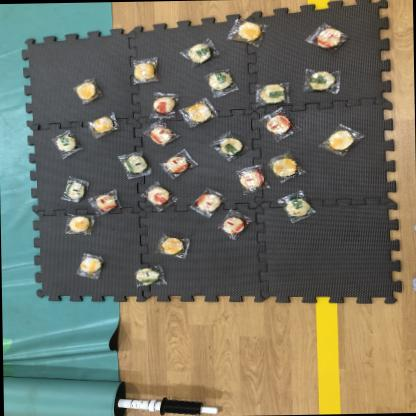green_setoshio: (274, 192, 312, 223), (297, 68, 339, 95), (250, 79, 290, 107), (202, 67, 238, 97), (182, 36, 218, 66), (212, 132, 247, 160), (58, 176, 92, 204), (131, 262, 166, 288), (50, 129, 80, 158), (118, 153, 149, 179)
red_setoshio: (309, 16, 346, 52), (160, 147, 196, 180), (217, 208, 252, 241), (141, 180, 176, 212), (140, 120, 180, 147), (187, 188, 222, 216), (89, 188, 124, 216), (231, 165, 264, 194), (262, 111, 292, 139), (148, 93, 176, 117)
yellow_setoshio: (319, 126, 361, 158), (179, 97, 215, 128), (266, 153, 302, 183), (228, 17, 265, 46), (157, 230, 192, 259), (86, 111, 120, 139), (126, 58, 158, 86), (76, 252, 106, 280), (72, 76, 100, 104), (64, 214, 92, 236)
